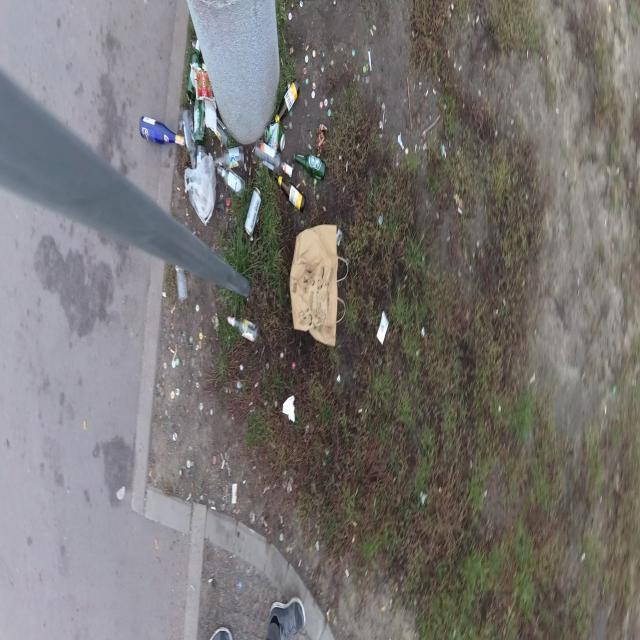rubbish: (289, 221, 337, 344), (184, 146, 218, 228), (139, 113, 186, 146), (254, 142, 292, 177), (276, 175, 306, 212), (274, 79, 300, 121), (185, 42, 201, 105), (217, 163, 245, 194), (293, 153, 326, 179), (244, 186, 261, 236), (225, 316, 260, 339), (182, 110, 196, 167), (193, 66, 217, 99), (215, 145, 243, 168), (173, 263, 189, 300), (193, 100, 205, 143), (375, 311, 390, 345), (217, 115, 231, 149), (282, 397, 295, 418)
